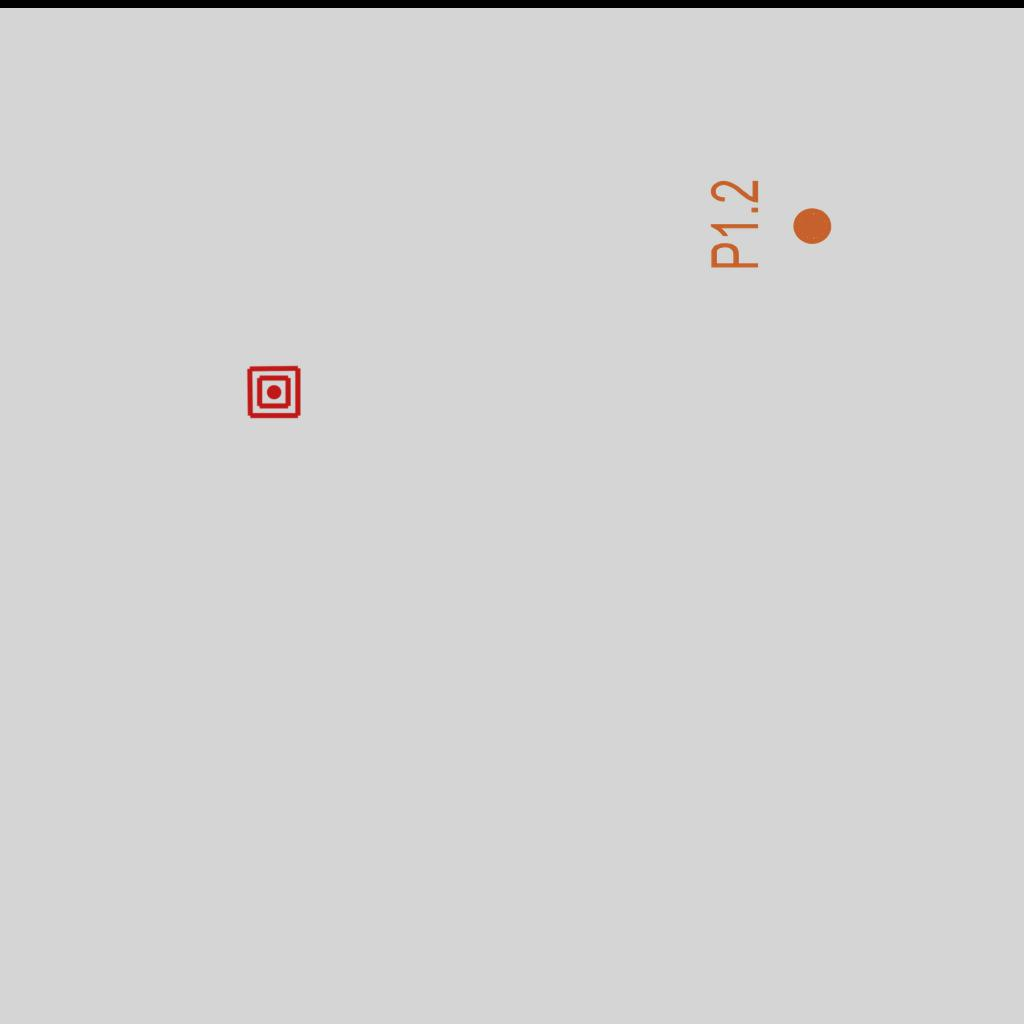Downlight_LED_Einbauleuchten_Flur: (707, 178, 835, 271)
NAM-Nichtautomatischer_Melder: (246, 364, 302, 420)
